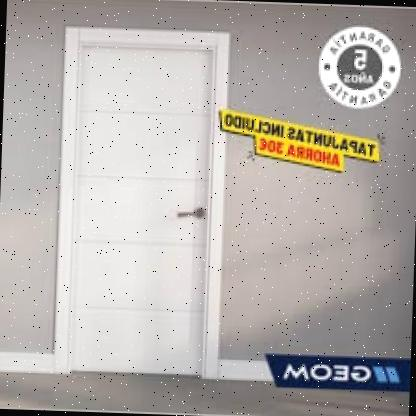door: (54, 22, 232, 381)
